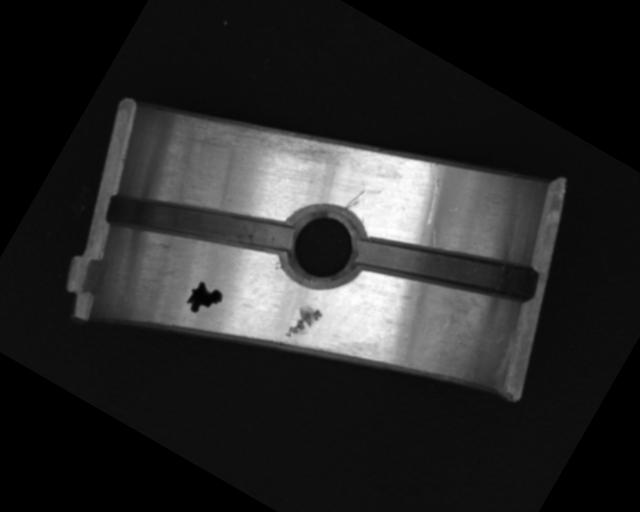blot: (182, 277, 225, 321)
bruise: (283, 299, 324, 346)
gap: (102, 142, 296, 304), (354, 191, 539, 343)
hole: (269, 192, 376, 300)
nick: (403, 160, 460, 226), (341, 184, 366, 214)
scratch: (188, 72, 350, 200)
